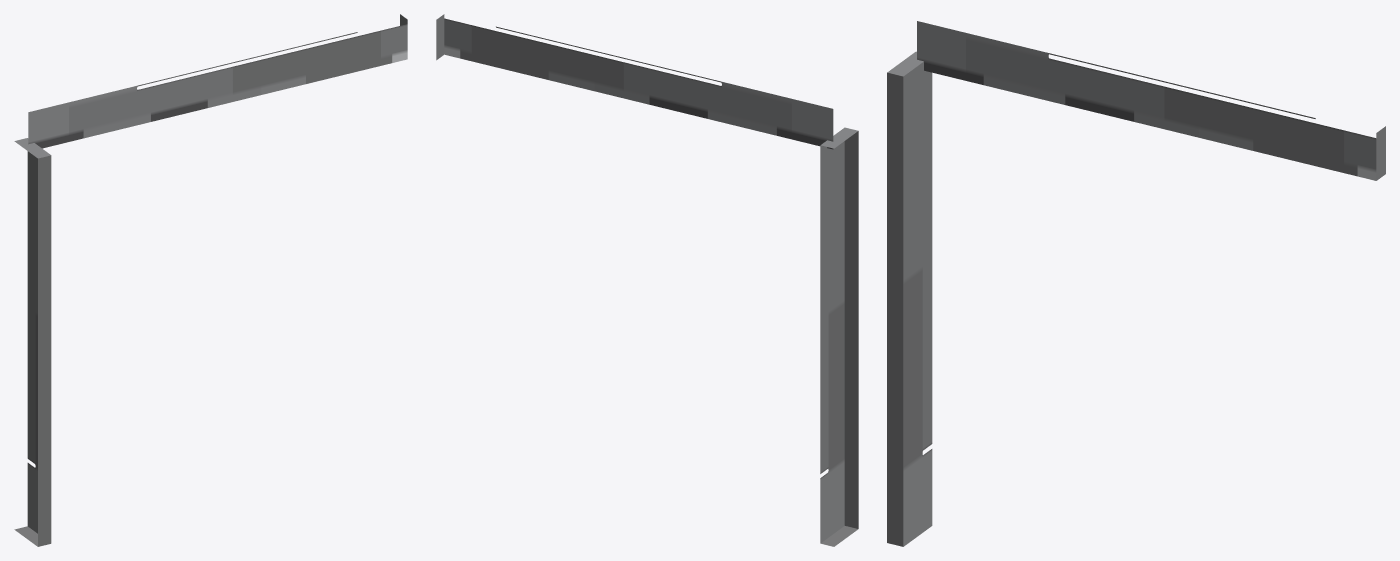
3 renders of one model, left to right at view 1: azimuth 30°, elevation 25°; view 2: azimuth 150°, elevation 25°; view 3: azimuth 330°, elevation 25°, orthographic. The views are drawn at different scales.
Size of the model in its own units: 0.8632 by 0.8963 by 0.096.
